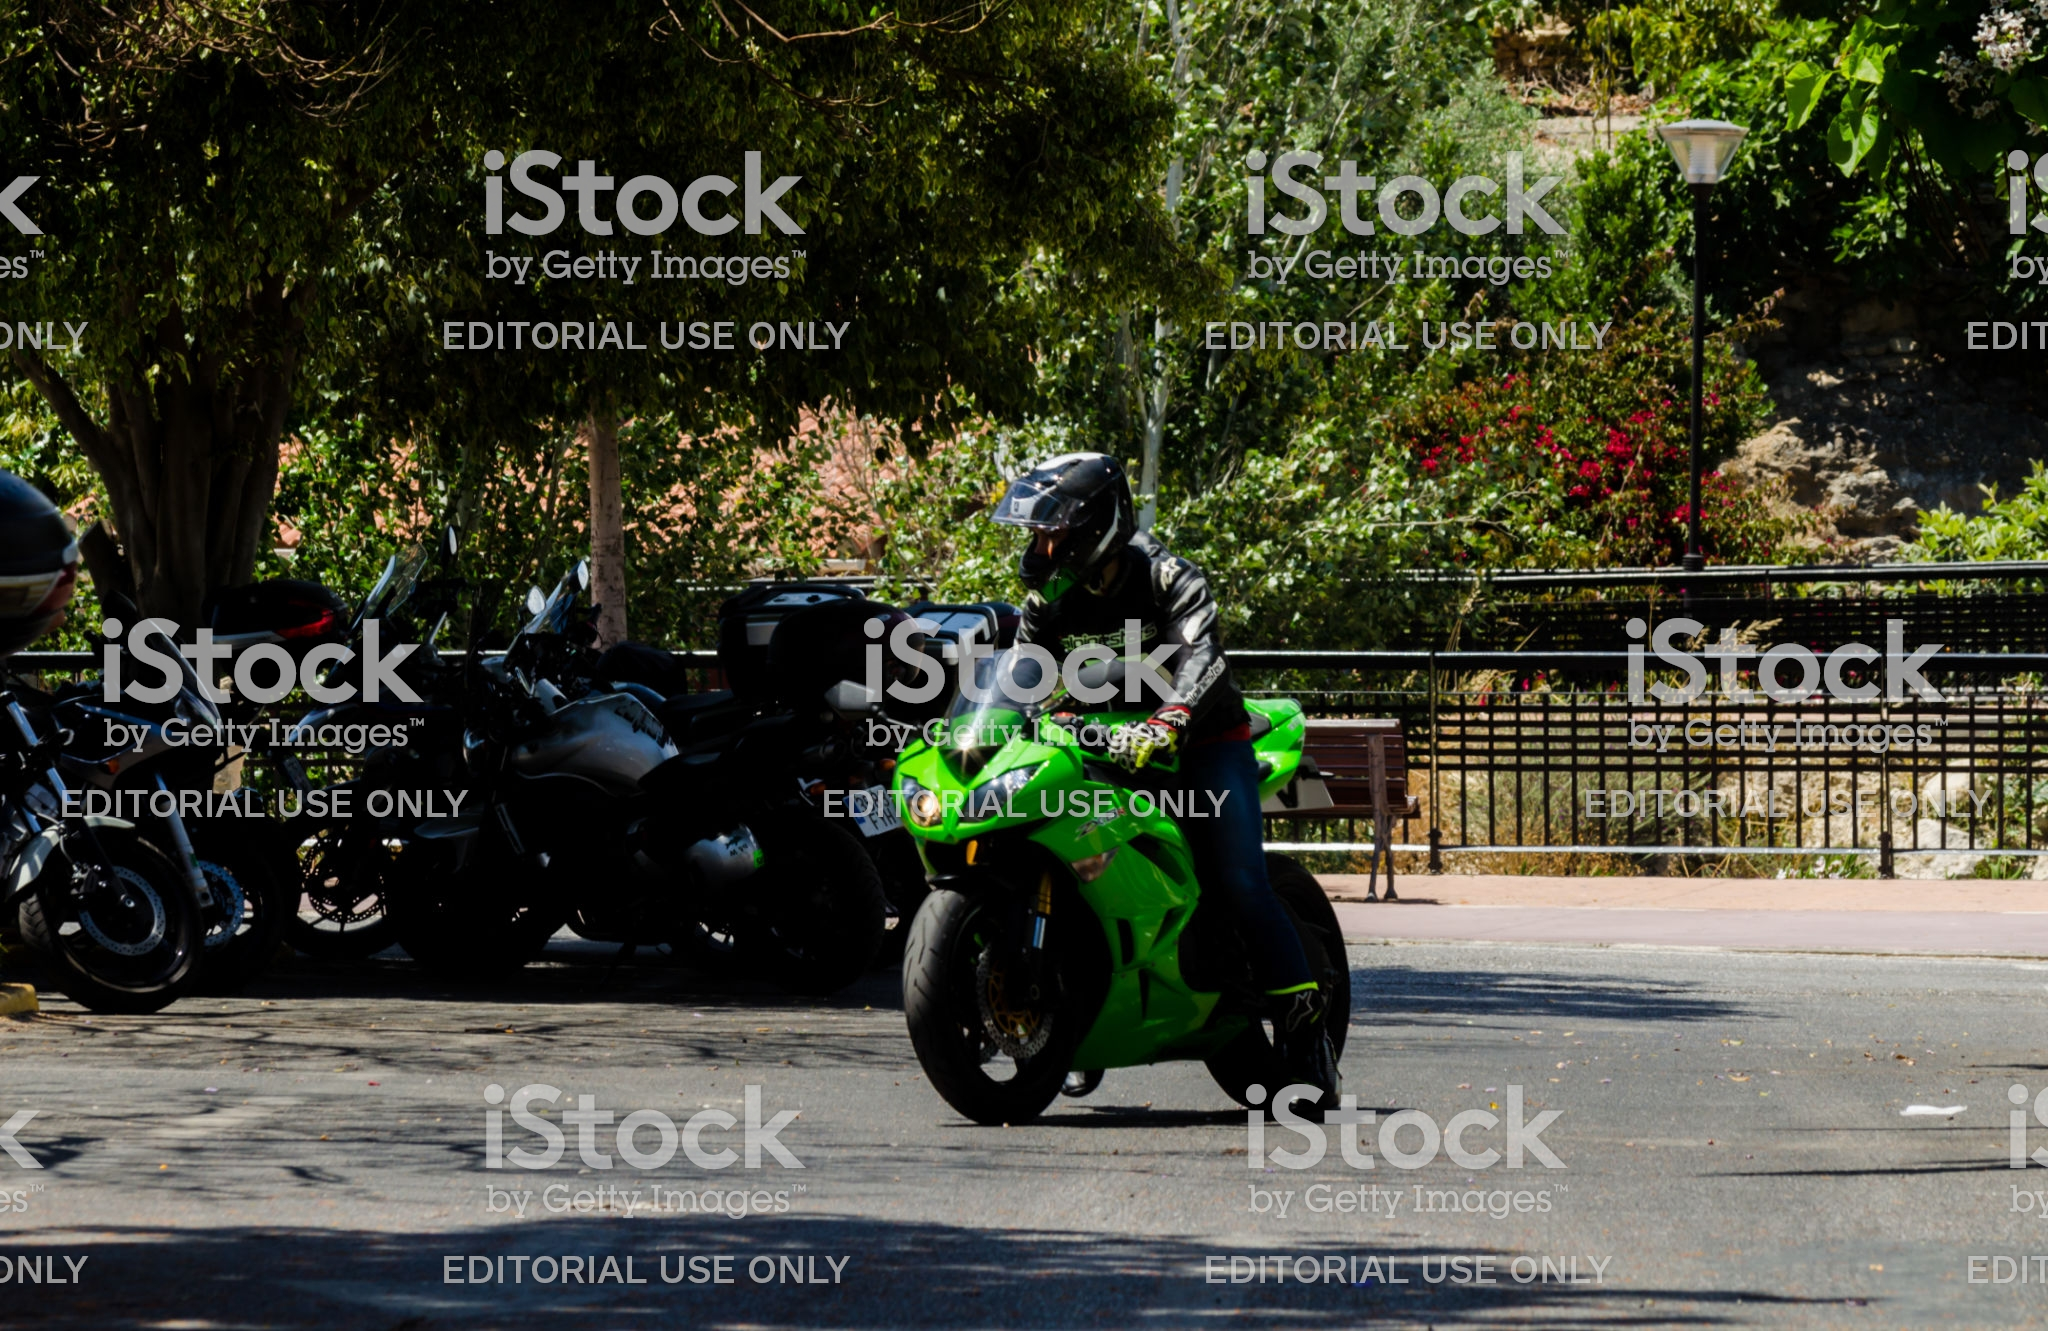helmet: (991, 430, 1142, 598)
